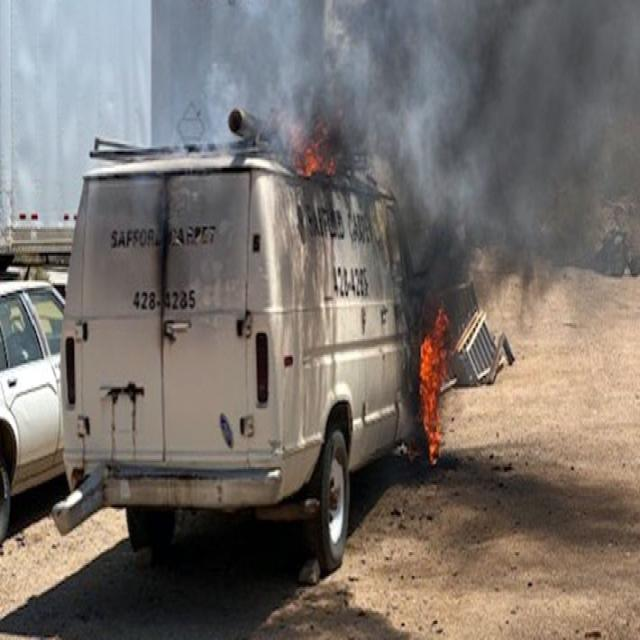fire: (389, 270, 473, 468)
